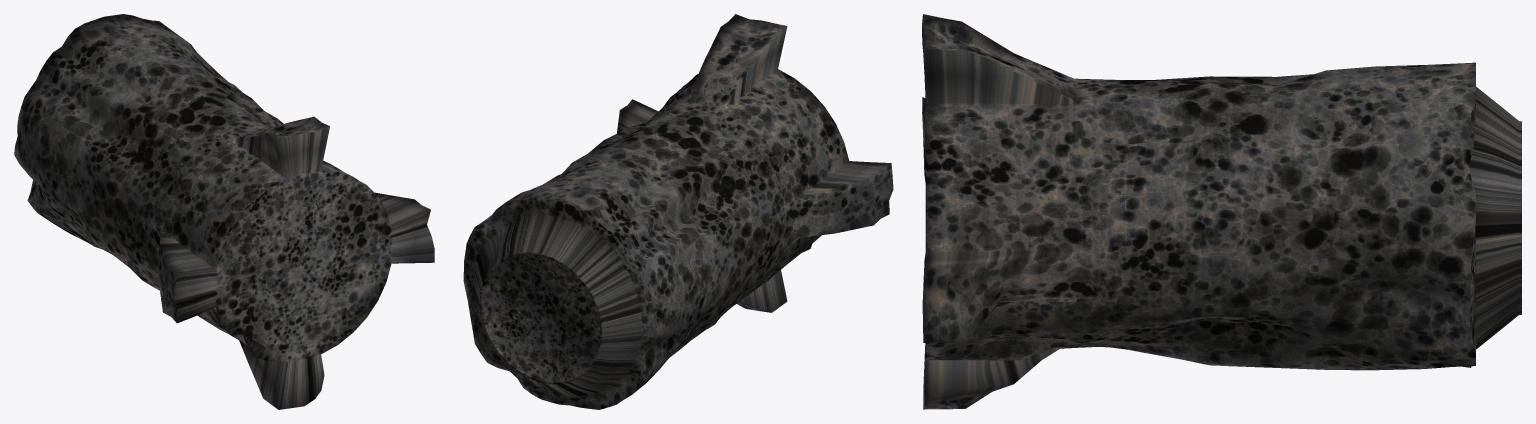
Rendered from Altar.fbx.
3 views of the same model, side by side, from view 1: azimuth 30°, elevation 25°; view 2: azimuth 150°, elevation 25°; view 3: azimuth 270°, elevation 25° (orthographic). The views are drawn at different scales.
Parts seen in each view (by area): view 1: Cylinder; view 2: Cylinder; view 3: Cylinder.
Boxes of the visible parts, x1=… form: Cylinder: x1=14, y1=14, x2=434, y2=409; Cylinder: x1=463, y1=14, x2=893, y2=409; Cylinder: x1=922, y1=14, x2=1521, y2=409.
Size of the model in its own units: 291 by 293 by 421.
Materials: 1 (1 with a texture image).
